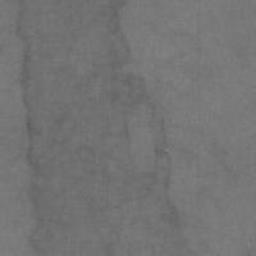Water spot: (15, 0, 200, 256)
